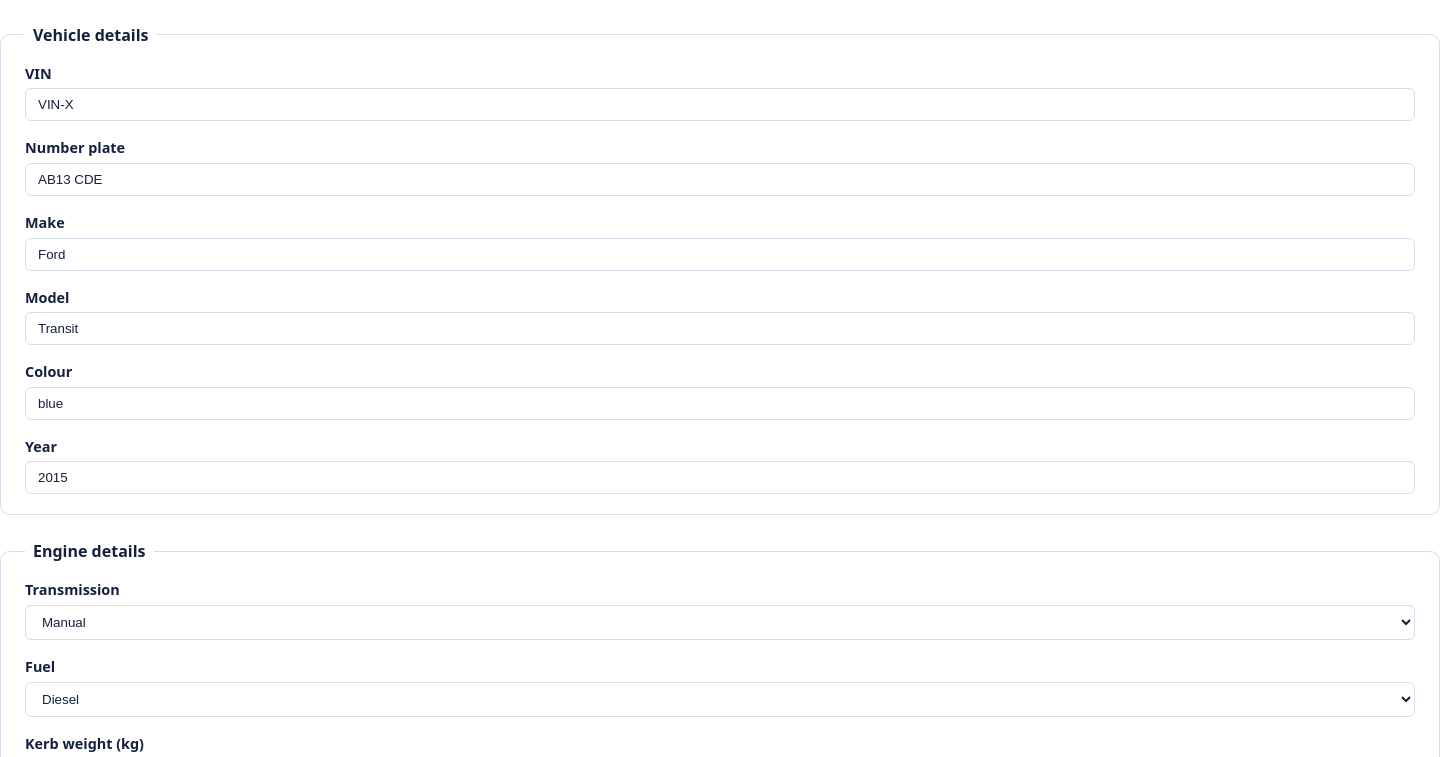
preserves an existing convoy assignment and servicing flag on unrelated edits
Replace the text in the field labelled "Colour" with "green" at (720, 403), box [25, 387, 1415, 420]
(page scrolled)
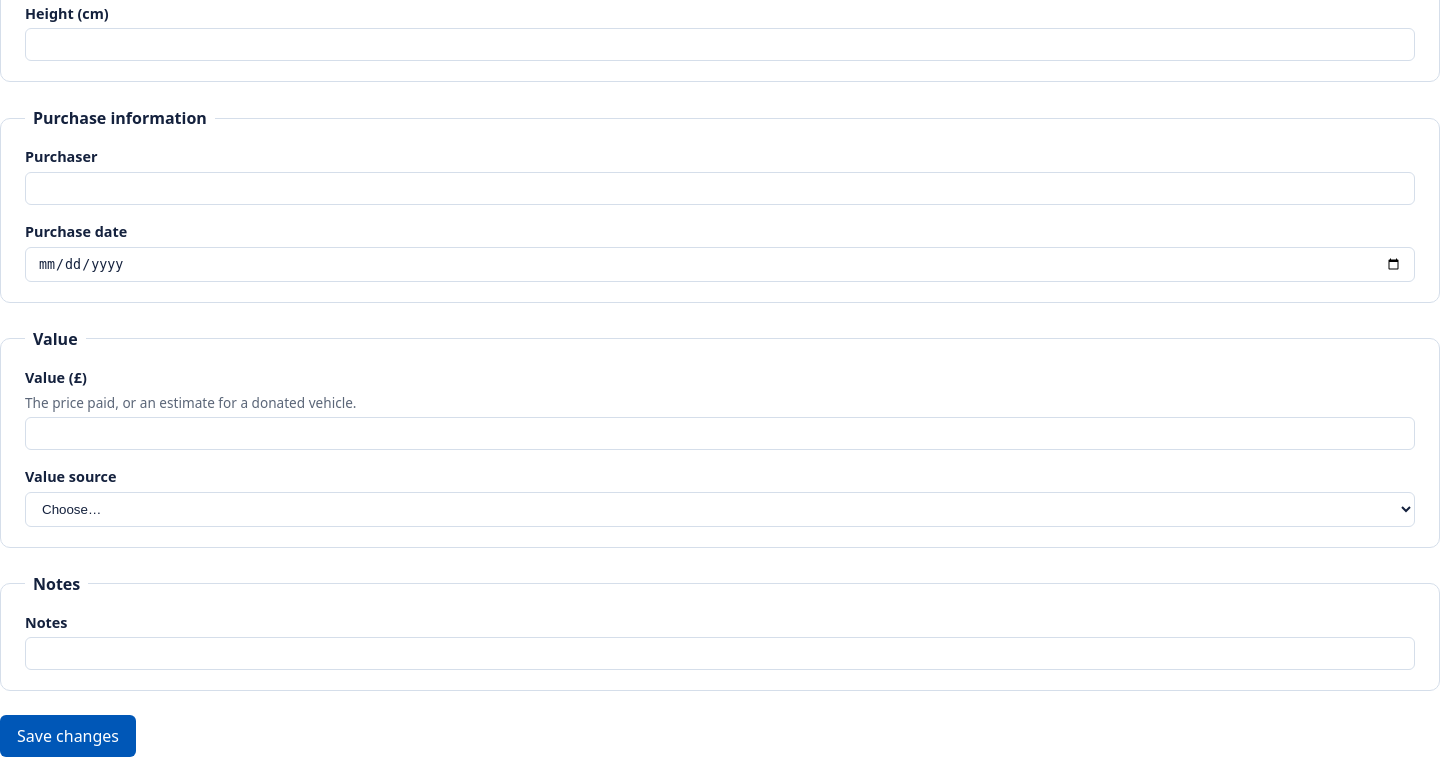
Click the button "Save changes".
click(68, 736)  # box [0, 715, 136, 756]
(page scrolled)
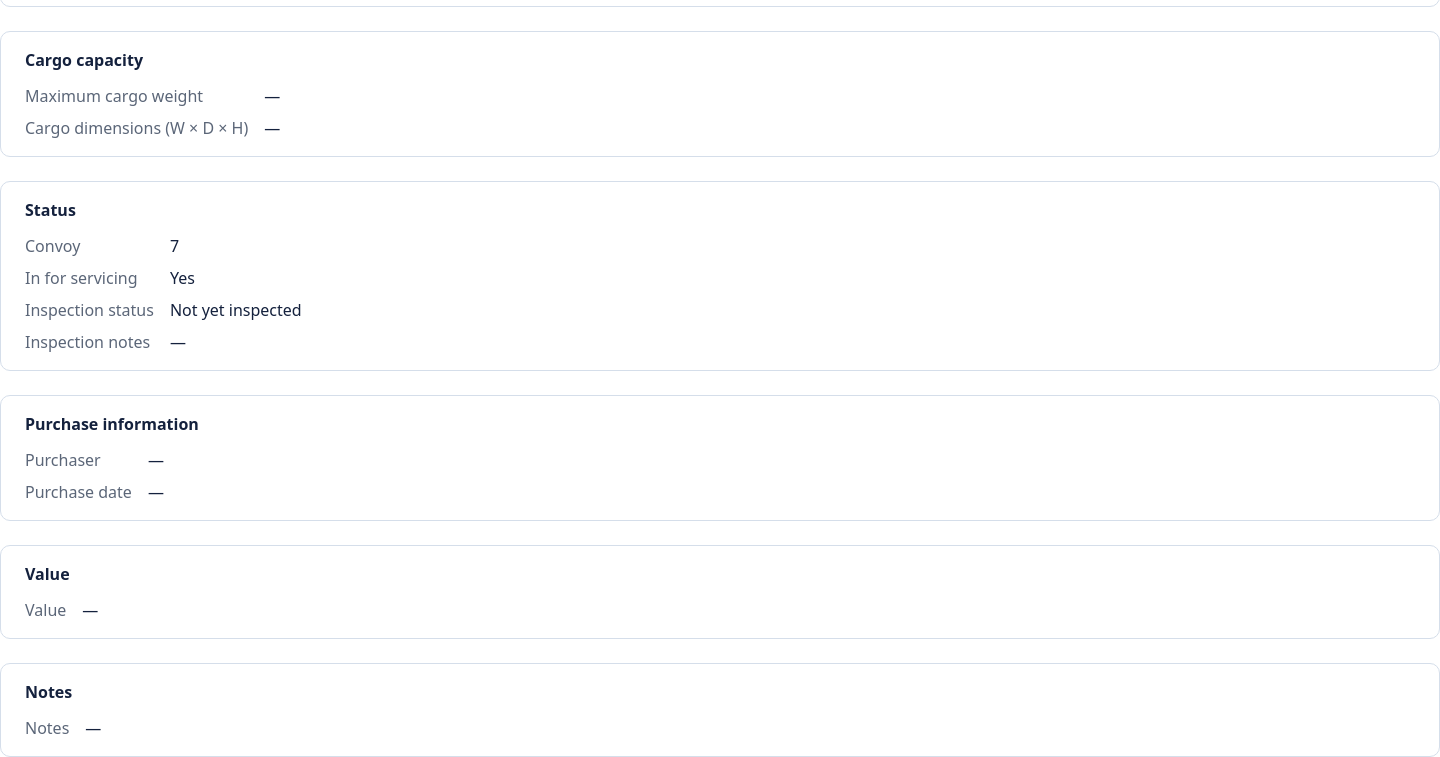
Now the text "7" is shown, box [170, 235, 179, 257]
Now the text "Yes" is shown, box [170, 267, 195, 289]
